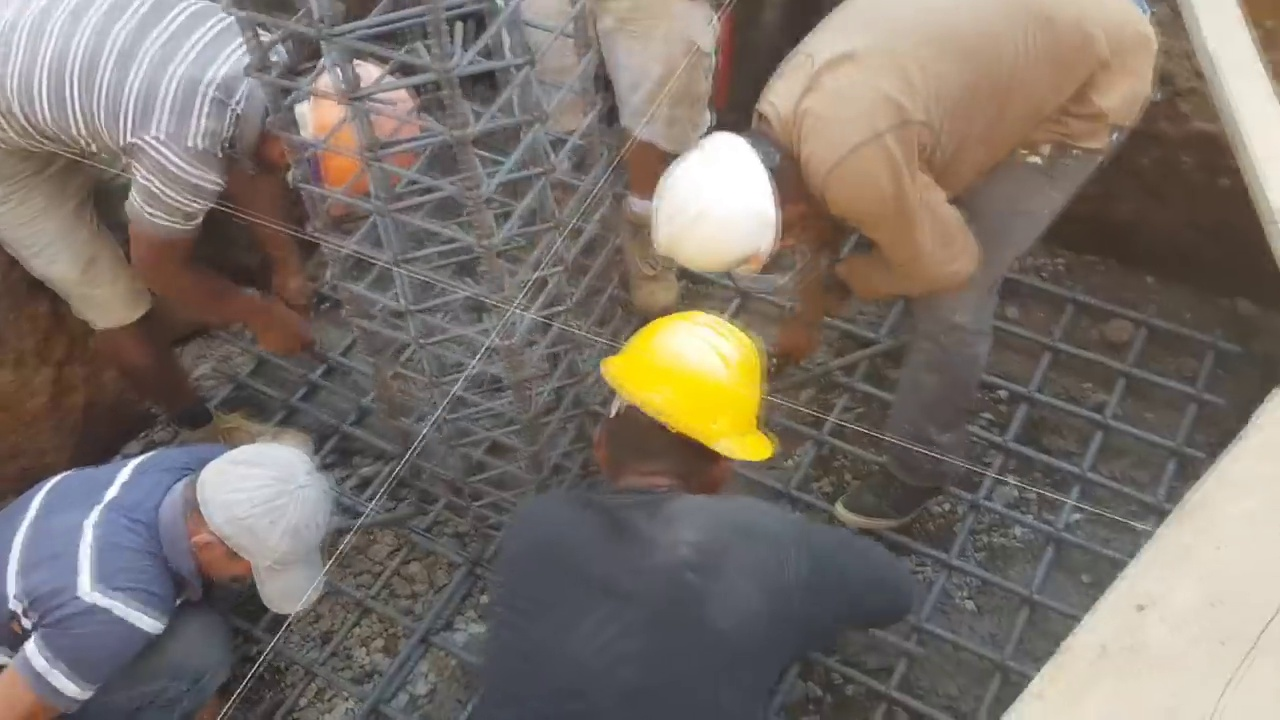helmet: (608, 311, 771, 471), (286, 51, 430, 210), (659, 124, 776, 281)
helmet-off: (181, 450, 345, 613)
helmet-on: (586, 309, 772, 502), (655, 104, 834, 282), (244, 44, 430, 214)
person: (657, 0, 1166, 528), (0, 0, 429, 436), (474, 305, 908, 719), (0, 444, 350, 719), (507, 3, 740, 299)
